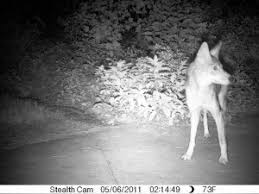coyote: (177, 36, 234, 181)
